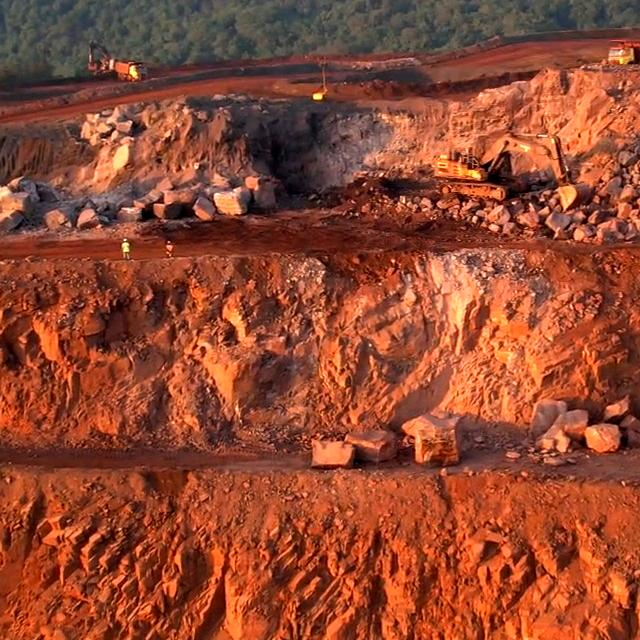Dumper truck: (608, 40, 640, 65)
Excavator: (438, 150, 513, 200), (544, 140, 592, 211)
person: (122, 238, 131, 261), (166, 238, 174, 257)
